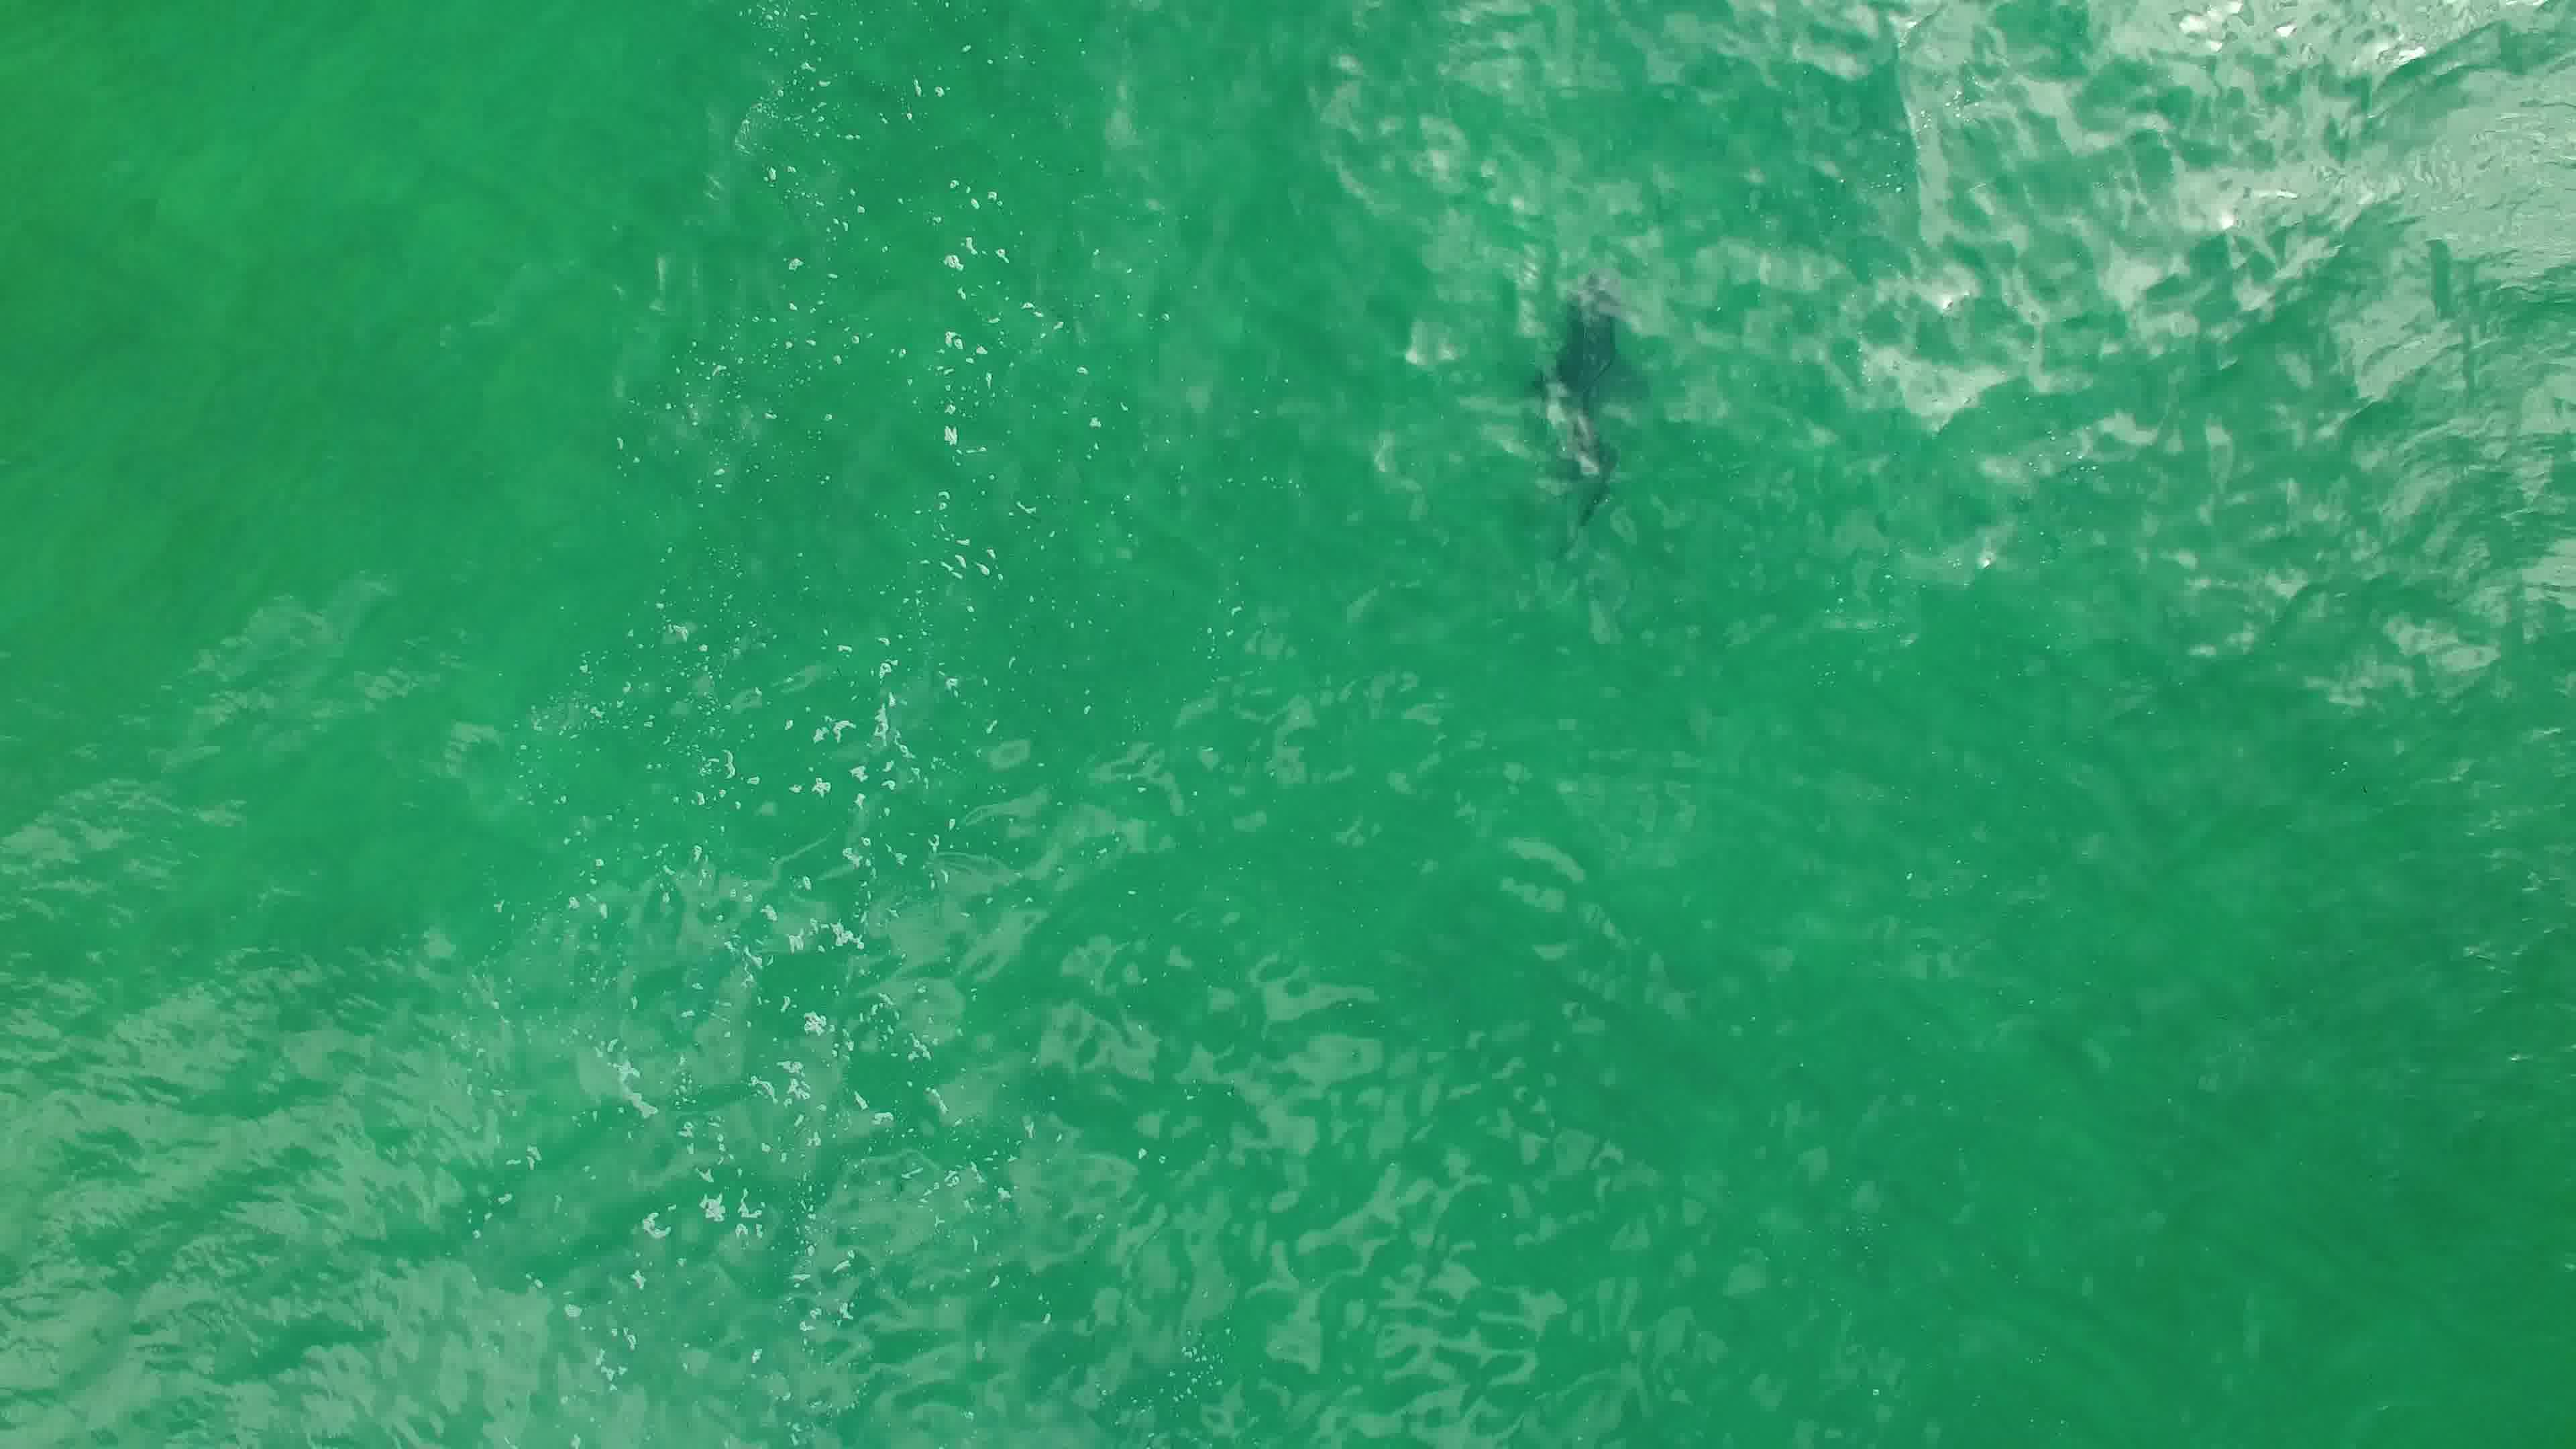shark: (1518, 274, 1644, 531)
